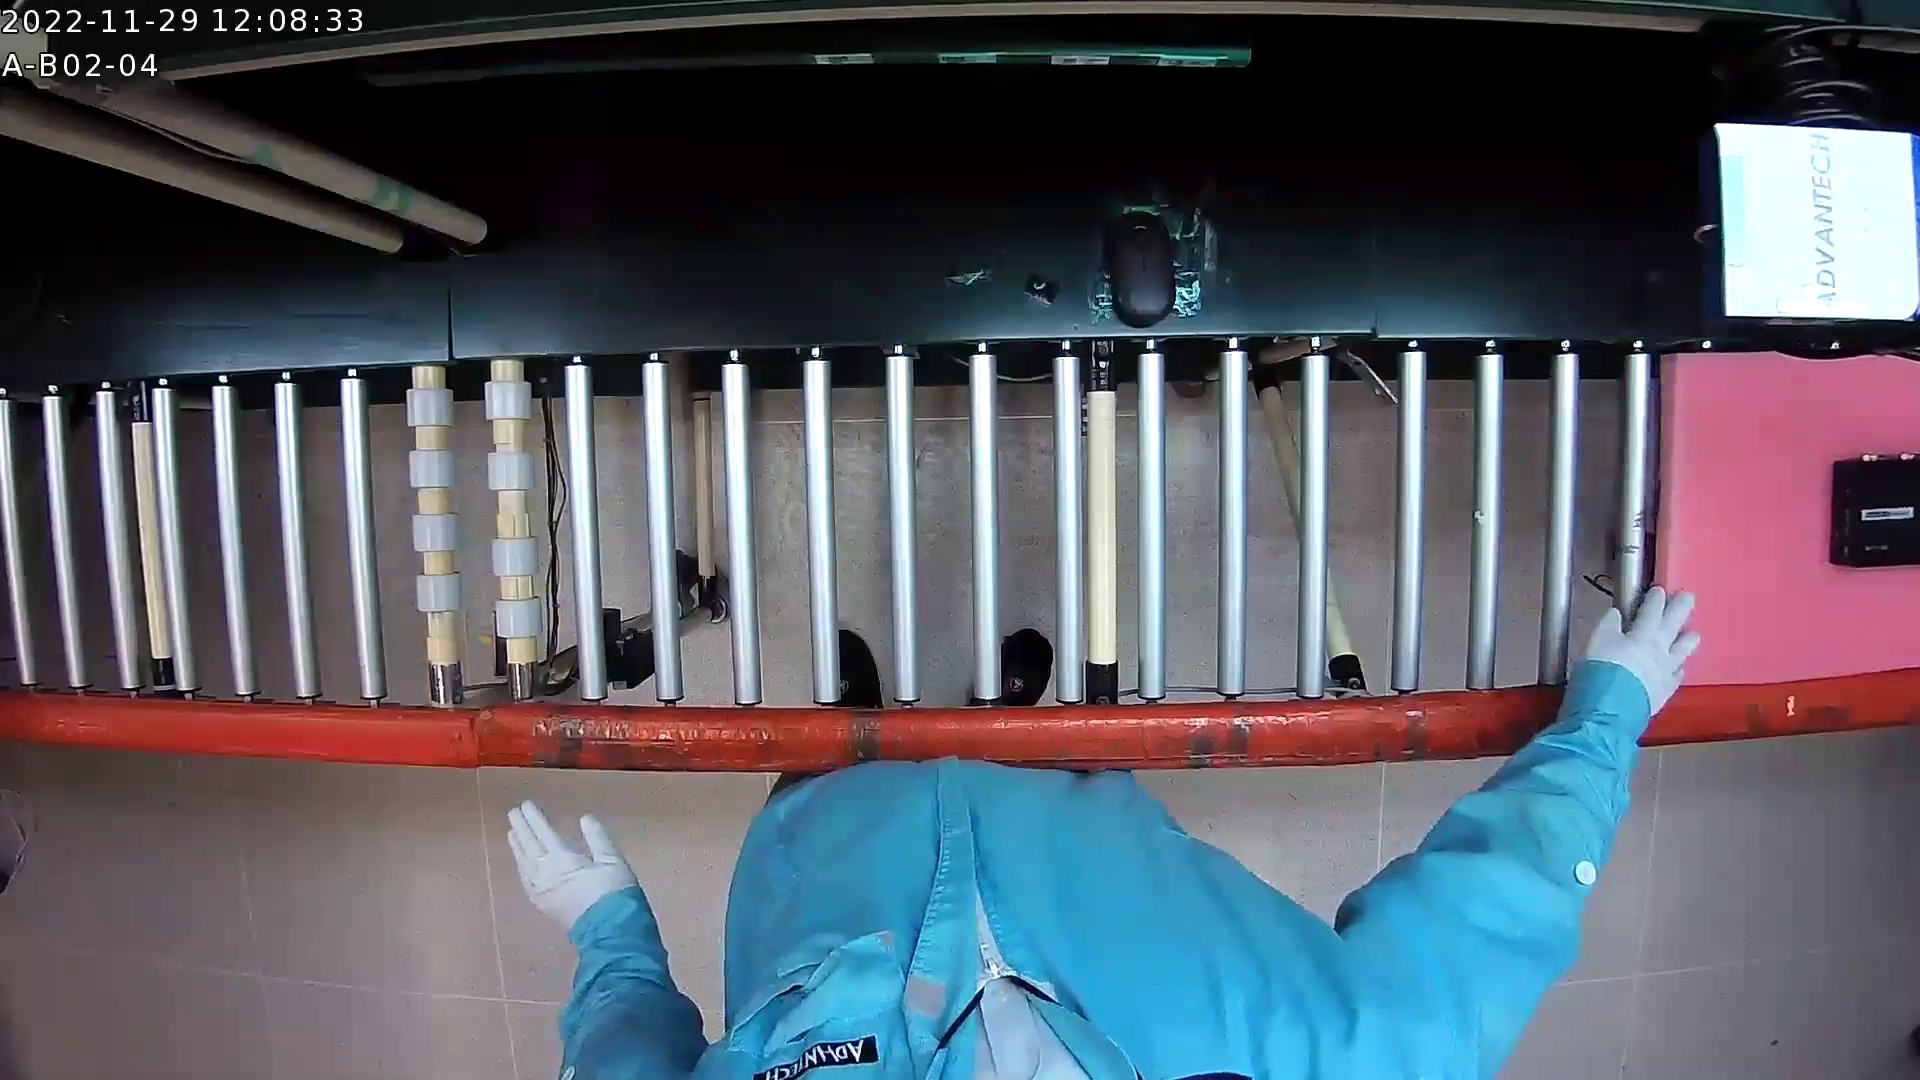foam: (1653, 336, 1920, 686)
hand: (1435, 579, 1721, 1012), (490, 777, 723, 1073)
people: (476, 563, 1736, 1080)
